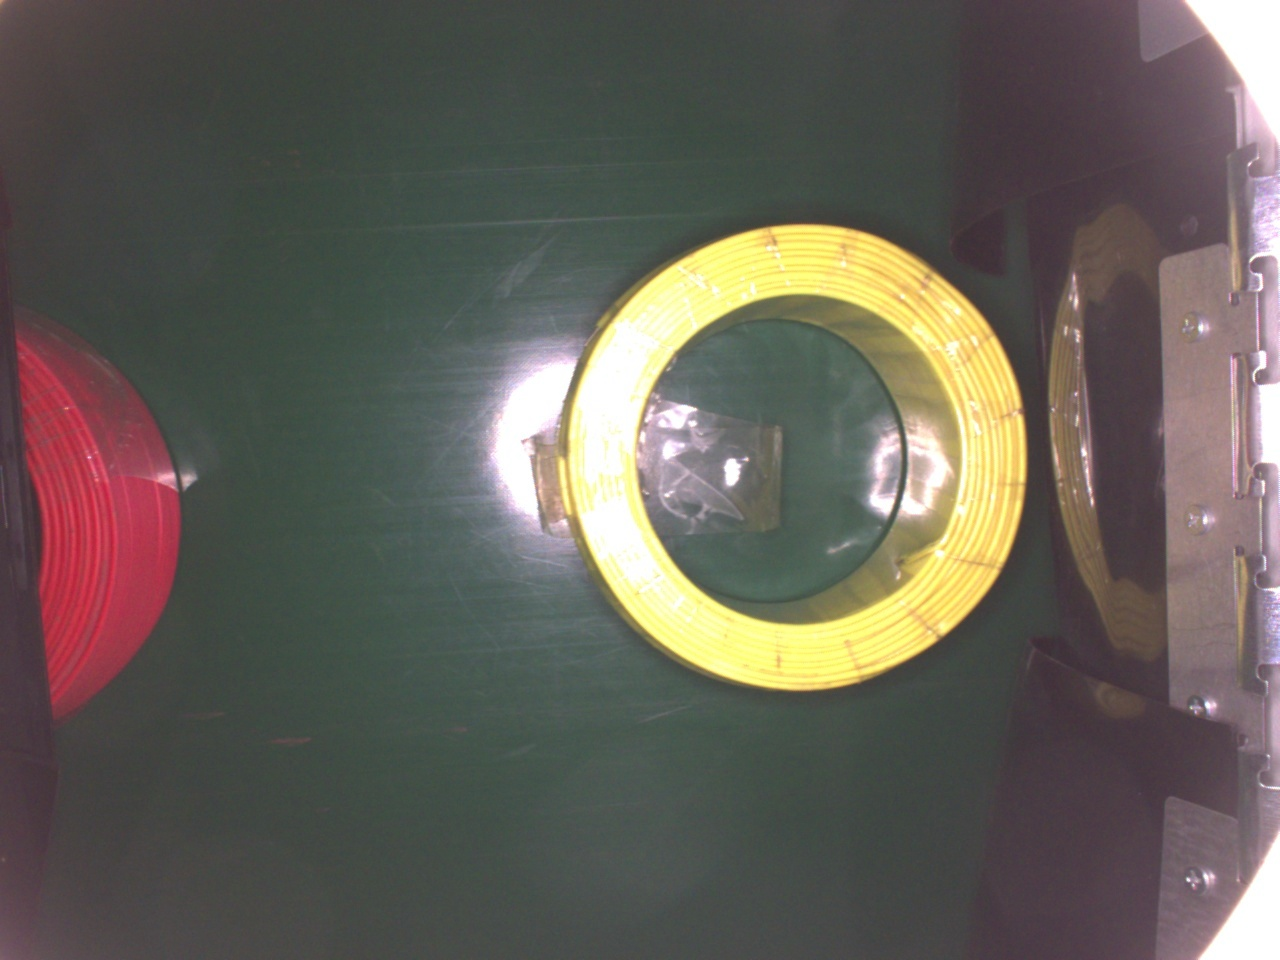red: (17, 307, 180, 716)
yellow: (559, 210, 1030, 697)
